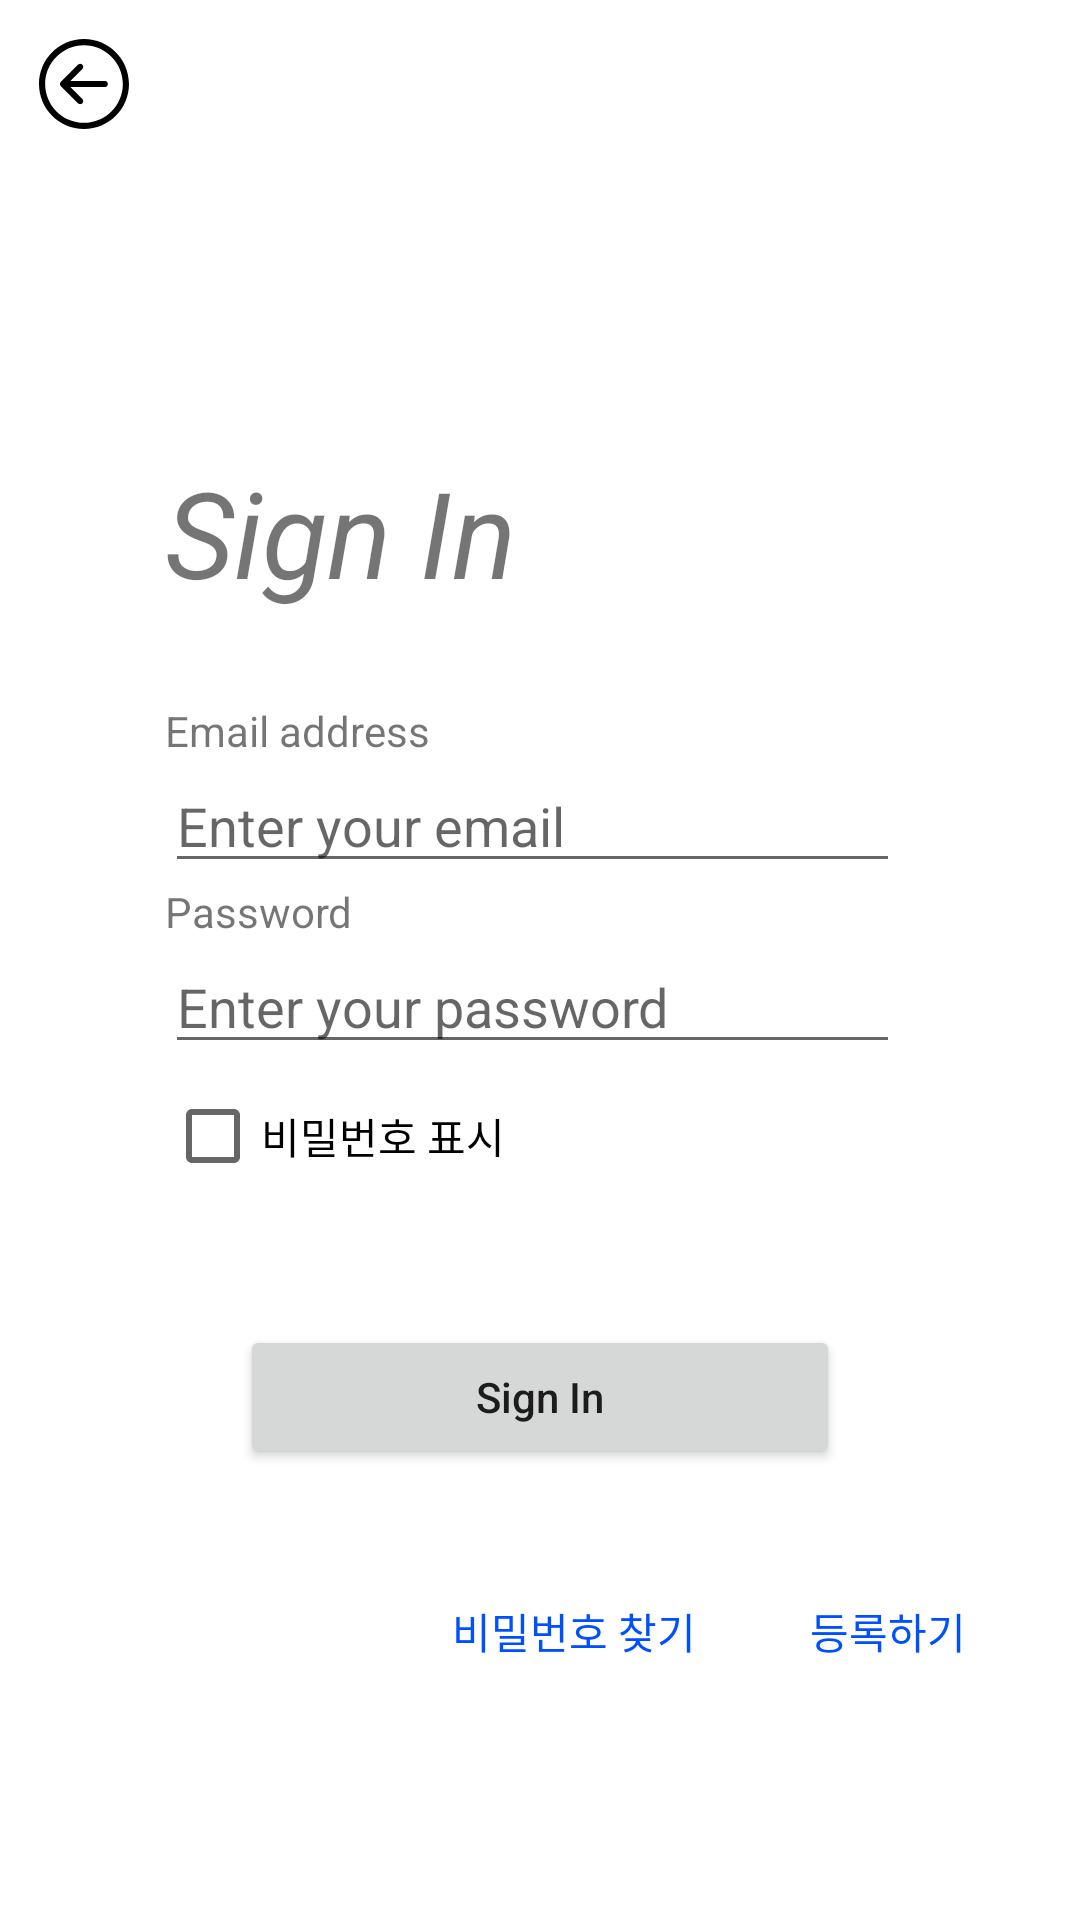

Where to tap for icons on this 1080px×1920px app screen, as [x,y]:
back: [84,84]
